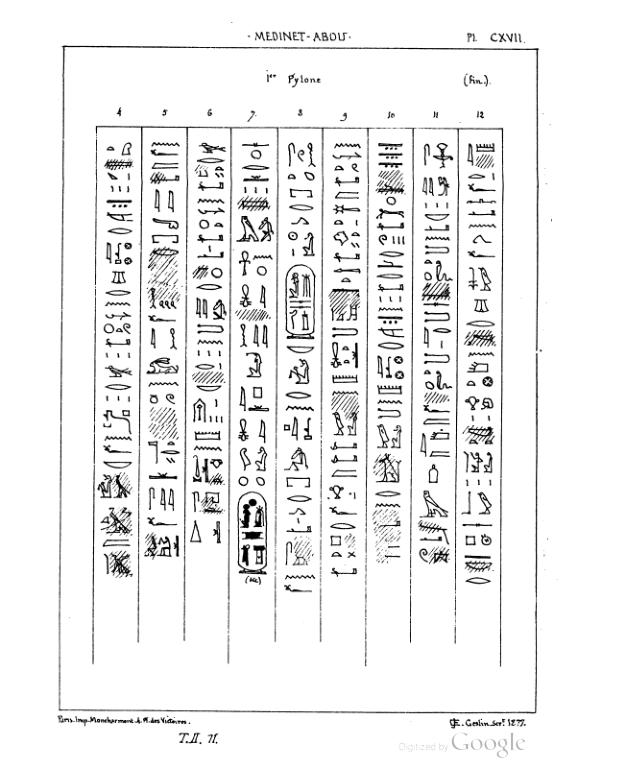circle: (283, 262, 321, 342), (235, 490, 269, 578)
